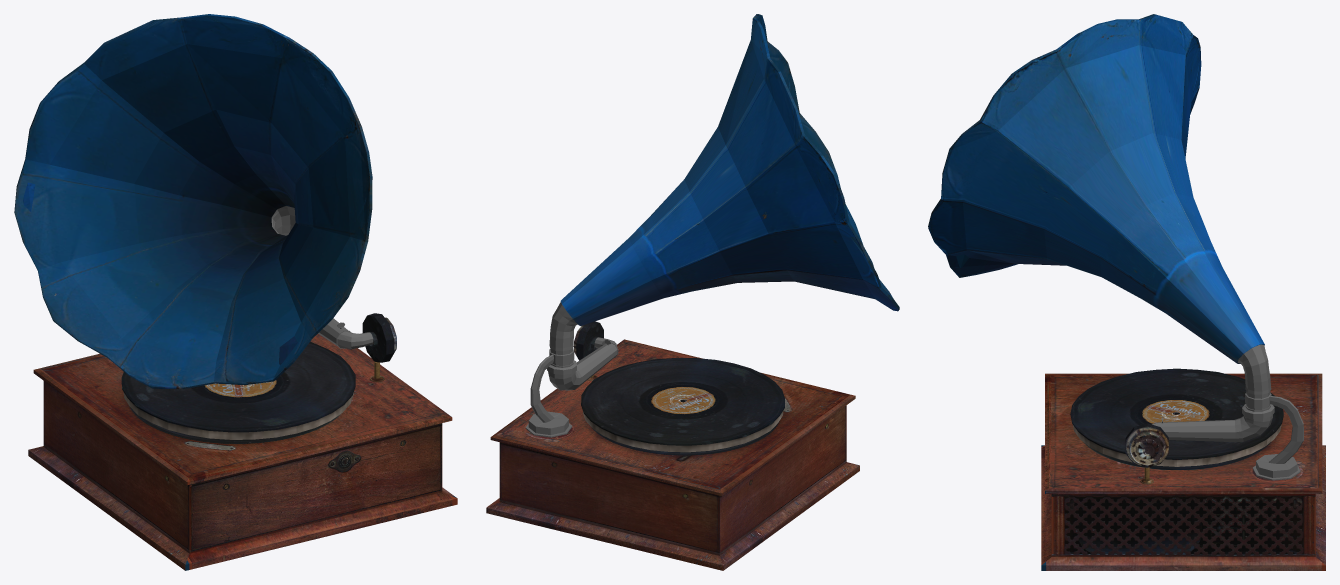
The model's file is phonograph.obj.
3 renders of one model, left to right at view 1: azimuth 30°, elevation 25°; view 2: azimuth 150°, elevation 25°; view 3: azimuth 270°, elevation 25°, orthographic. The views are drawn at different scales.
Parts seen in each view (by area): view 1: Circle.001_Circle.004, Cube.001, Circle, Circle.002_Circle.003, Circle.004_Circle.001; view 2: Cube.001, Circle.001_Circle.004, Circle, Circle.002_Circle.003, Circle.003_Circle.005, Circle.004_Circle.001; view 3: Circle.001_Circle.004, Cube.001, Circle, Circle.002_Circle.003, Circle.003_Circle.005, Circle.004_Circle.001.
Part boxes in pixels (x1,y1,x2,y2): Circle.001_Circle.004: (14,14,372,389); Cube.001: (28,334,457,570); Circle: (121,341,355,439); Circle.002_Circle.003: (271,206,373,349); Circle.004_Circle.001: (362,313,396,362); Cube.001: (486,339,859,570); Circle.001_Circle.004: (560,14,899,325); Circle: (581,357,784,452); Circle.002_Circle.003: (547,302,618,390); Circle.003_Circle.005: (525,348,574,437); Circle.004_Circle.001: (574,321,603,360); Circle.001_Circle.004: (928,14,1264,363); Cube.001: (1041,373,1325,570); Circle: (1070,368,1283,466); Circle.002_Circle.003: (1152,344,1274,442); Circle.003_Circle.005: (1245,393,1303,480); Circle.004_Circle.001: (1125,423,1168,467).
Size of the model in its own units: 12.42 by 16.69 by 13.01.
Materials: 3 (1 with a texture image).
